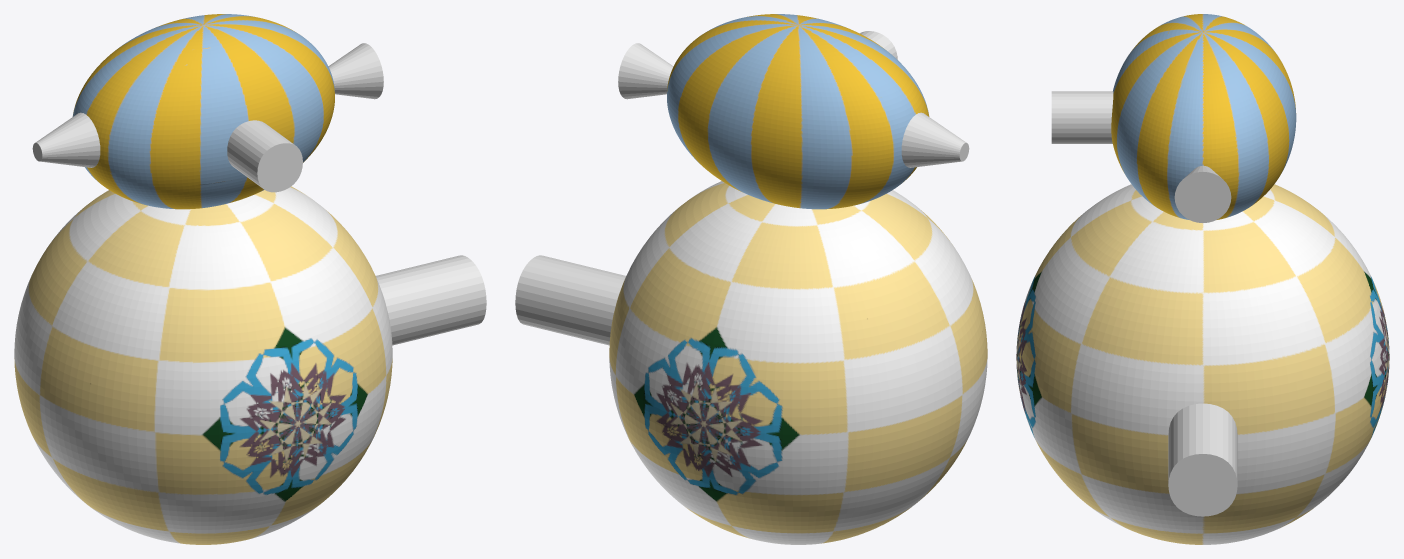
File: BOD0_BMC2_BCC13_BPT4_FRC7_HEA1_HMC15_HCC6_HPT2_ELT2_ERT3_ELL2_ERL1_AP2_AAL0_AAR2_BEK1.fbx
3 renders of one model, left to right at view 1: azimuth 30°, elevation 25°; view 2: azimuth 150°, elevation 25°; view 3: azimuth 270°, elevation 25°, orthographic.
Visible parts, largest first — view 1: Body, Arm, Beak, Ear, Ear.001; view 2: Body, Arm, Ear, Ear.001; view 3: Body, Arm, Beak, Ear.001.
Part boxes in pixels (box(x1,y1,x2,y2)): Body: box(14, 14, 392, 544); Arm: box(376, 255, 486, 345); Beak: box(227, 120, 302, 192); Ear: box(32, 112, 100, 167); Ear.001: box(328, 43, 383, 99); Body: box(609, 14, 987, 544); Arm: box(515, 255, 625, 345); Ear: box(901, 112, 969, 167); Ear.001: box(618, 43, 673, 99); Body: box(1016, 14, 1389, 544); Arm: box(1168, 403, 1237, 516); Beak: box(1051, 91, 1113, 143); Ear.001: box(1174, 165, 1231, 222).
Size of the model in its own units: 65 by 72.41 by 49.36.
1 material, 1 textured.
